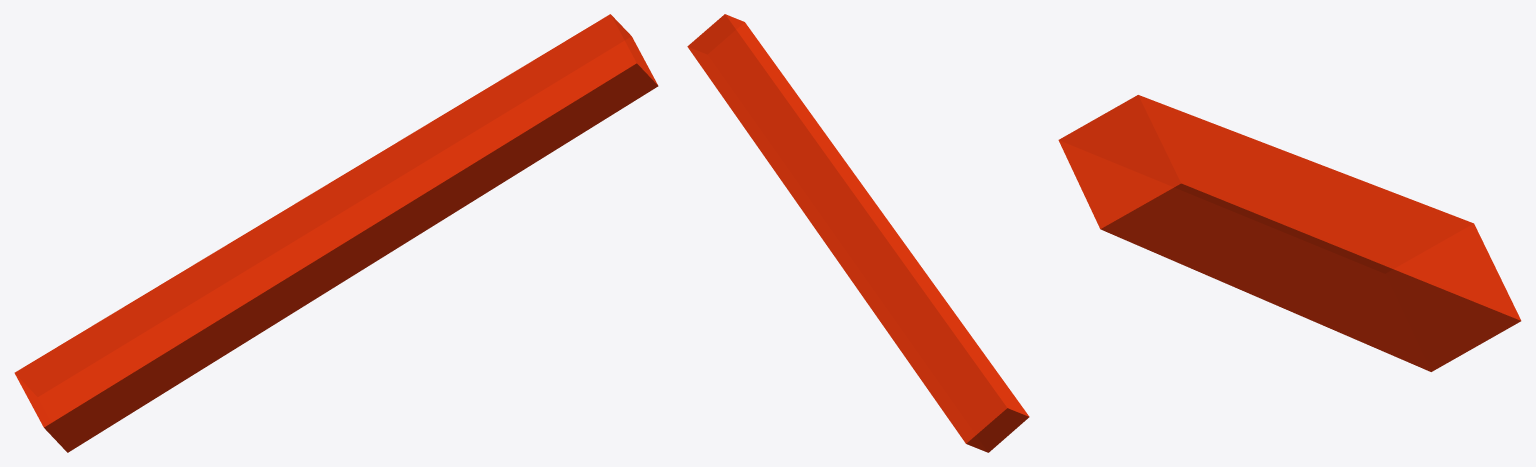
File: Event_421364160_EBrechit_15.fbx
3 renders of one model, left to right at view 1: azimuth 30°, elevation 25°; view 2: azimuth 150°, elevation 25°; view 3: azimuth 270°, elevation 25°, orthographic. The views are drawn at different scales.
Parts seen in each view (by area): view 1: Model; view 2: Model; view 3: Model.
Part boxes in pixels (box(x1,y1,x2,y2)): Model: box(14, 14, 658, 452); Model: box(687, 14, 1029, 452); Model: box(1058, 95, 1521, 371).
Bounding box in the file's own units: 0.534 × 0.3933 × 0.2723.
